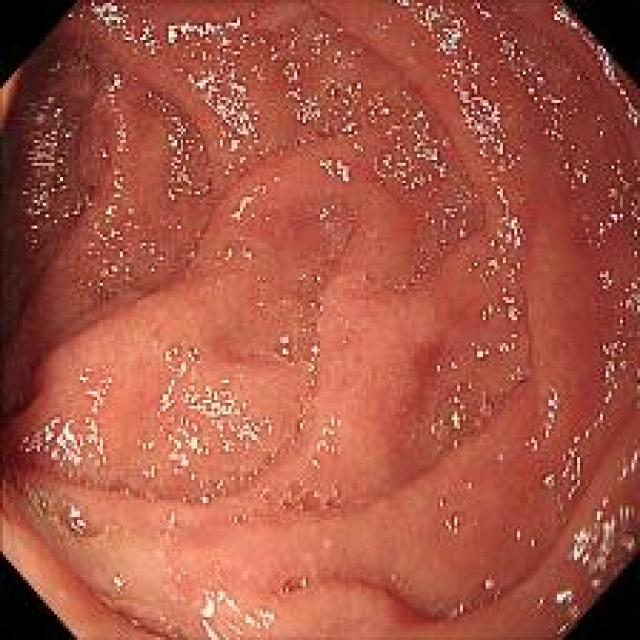bubbles: (425, 380, 500, 448), (45, 492, 116, 545), (280, 472, 346, 526), (315, 76, 359, 139), (445, 570, 500, 619), (289, 262, 336, 314), (231, 451, 282, 488), (218, 495, 269, 528), (371, 145, 405, 181), (354, 265, 386, 302), (285, 401, 315, 440), (272, 332, 302, 364), (102, 568, 132, 600), (165, 338, 205, 361), (439, 510, 469, 538), (276, 574, 310, 595), (414, 249, 435, 281), (158, 508, 179, 540), (252, 265, 274, 291), (245, 346, 261, 362), (404, 274, 419, 291)
contrast: (6, 52, 85, 392)
specularity: (259, 22, 389, 146), (164, 11, 261, 140), (16, 369, 124, 474), (78, 179, 165, 292), (164, 339, 234, 466), (562, 155, 638, 250), (510, 34, 571, 142), (384, 109, 451, 201), (469, 242, 520, 361), (456, 81, 520, 175), (154, 104, 214, 202), (491, 191, 524, 366), (28, 101, 72, 224), (568, 504, 632, 586), (585, 29, 634, 128), (549, 418, 605, 502), (589, 319, 630, 425), (198, 584, 279, 635), (532, 579, 582, 634), (105, 75, 135, 165), (426, 5, 468, 69), (229, 398, 274, 456), (220, 174, 275, 221), (598, 268, 639, 331), (432, 184, 476, 239), (94, 0, 150, 42), (589, 499, 620, 570), (504, 512, 548, 561), (605, 61, 636, 128), (211, 225, 258, 269), (539, 375, 561, 448), (315, 411, 339, 460), (589, 102, 614, 146), (164, 341, 200, 360), (570, 24, 596, 50), (66, 504, 88, 534), (470, 0, 495, 26), (422, 206, 448, 231), (591, 42, 612, 71), (118, 484, 152, 501), (548, 5, 574, 26), (480, 576, 500, 601), (506, 362, 526, 386), (446, 602, 469, 619), (135, 435, 158, 452), (444, 512, 461, 534), (139, 462, 159, 479), (521, 435, 541, 452), (495, 449, 511, 466), (450, 411, 462, 429), (394, 0, 412, 11), (280, 332, 288, 356), (428, 420, 438, 438), (308, 458, 322, 470), (306, 360, 318, 374), (464, 480, 478, 491), (114, 575, 124, 588), (49, 61, 60, 72), (299, 576, 309, 588), (281, 581, 290, 594), (310, 344, 320, 355), (168, 511, 176, 522), (31, 236, 39, 246)
